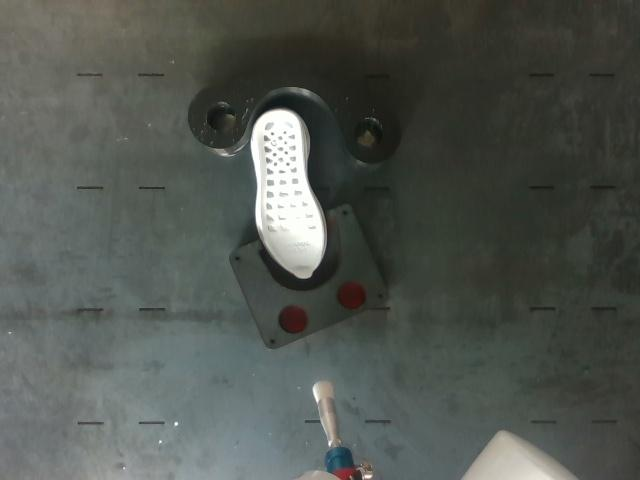shoes: (257, 111, 322, 278)
